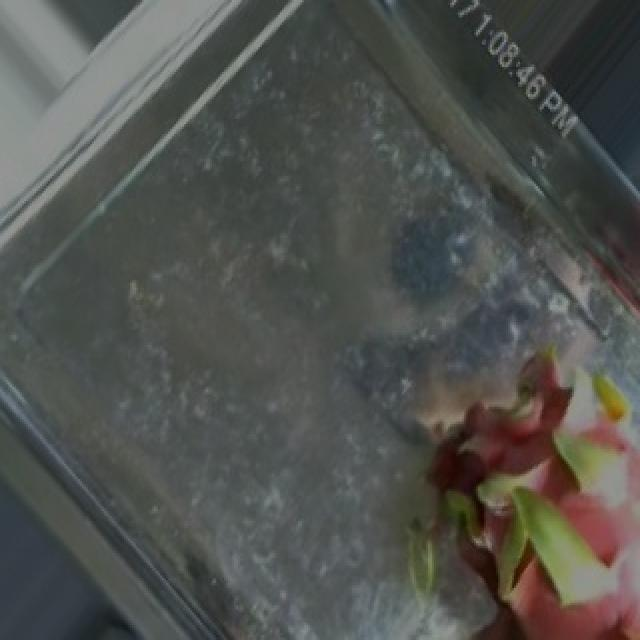fruit: (300, 275, 640, 640)
